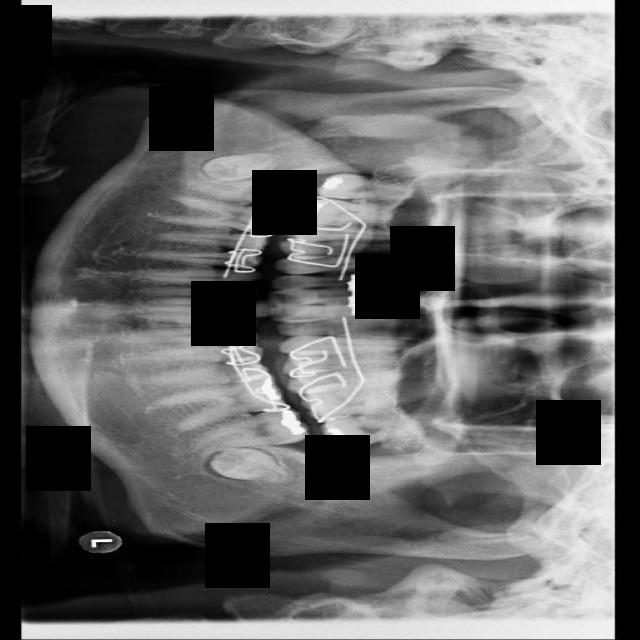52: (248, 403, 312, 450), (227, 369, 289, 414), (233, 200, 287, 237), (317, 415, 369, 449), (250, 179, 305, 209), (314, 173, 367, 200)
73: (52, 598, 60, 602)
BioHorizons Implant: (319, 416, 440, 448)
Biomet 3i Implant: (207, 447, 290, 483)
Blue Sky Bio Implant: (190, 403, 311, 455)
Caries: (312, 172, 449, 201)
Implant: (185, 172, 303, 212)
Keystone Dental Implant: (200, 149, 289, 184)
